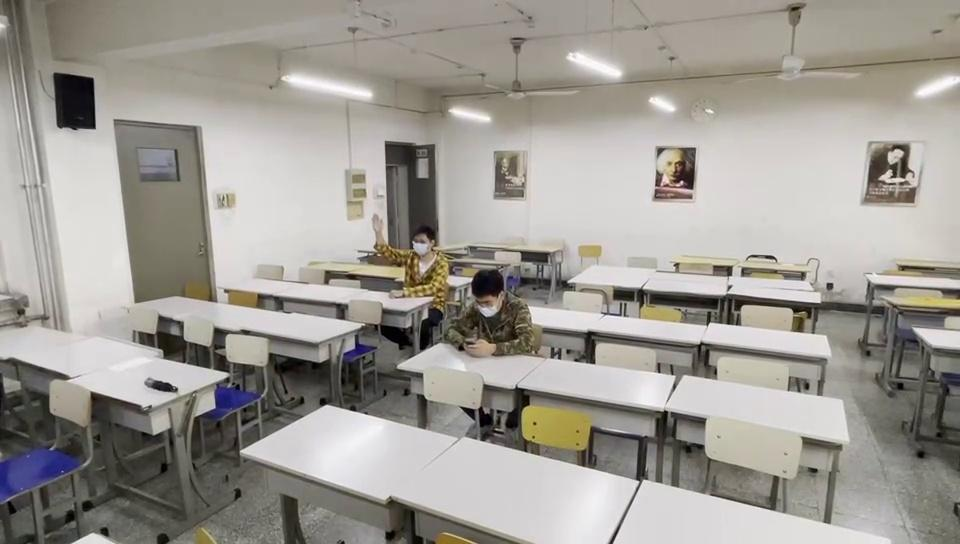phone: (448, 267, 534, 354), (373, 214, 446, 298)
